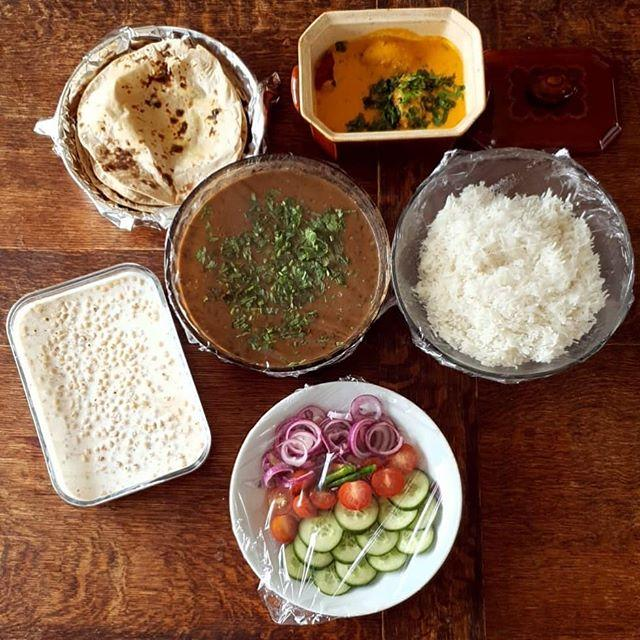Roti: (68, 30, 254, 208)
White Rice: (402, 173, 614, 382)
